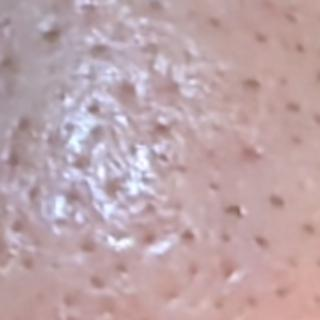Pores: (224, 202, 245, 222), (240, 145, 263, 161), (251, 234, 271, 251), (43, 25, 64, 40), (109, 26, 130, 41), (129, 141, 146, 158), (106, 181, 124, 197), (182, 226, 197, 245), (7, 150, 20, 171), (106, 231, 127, 244), (121, 80, 137, 97), (164, 290, 181, 306), (182, 45, 197, 63), (82, 66, 100, 81), (244, 294, 260, 310), (270, 194, 286, 210), (90, 128, 105, 145), (186, 264, 201, 281), (221, 266, 238, 281), (284, 255, 301, 270), (15, 116, 31, 131), (25, 185, 40, 201), (89, 44, 107, 57), (57, 90, 70, 108), (147, 1, 166, 13), (245, 75, 260, 90), (170, 78, 185, 93), (193, 103, 208, 118), (64, 189, 80, 203), (238, 114, 252, 130), (3, 54, 16, 71), (85, 102, 102, 115), (70, 158, 87, 171), (204, 146, 217, 163), (79, 243, 97, 255), (303, 220, 317, 235), (290, 132, 304, 147), (255, 32, 270, 46), (91, 275, 104, 291), (286, 99, 299, 115), (213, 66, 229, 79), (299, 178, 311, 195), (275, 284, 286, 302), (143, 232, 157, 246), (158, 123, 173, 136), (79, 1, 94, 14), (60, 296, 79, 306), (119, 264, 132, 278), (212, 121, 226, 134), (9, 220, 21, 235), (54, 216, 65, 232), (189, 296, 205, 307), (20, 256, 30, 273), (140, 173, 152, 187), (219, 231, 231, 245), (214, 297, 225, 312), (176, 165, 191, 176), (266, 101, 277, 116), (64, 120, 77, 132), (103, 307, 115, 320), (209, 180, 221, 193), (308, 292, 320, 305), (149, 61, 161, 74), (157, 150, 168, 164), (2, 16, 11, 33), (144, 204, 157, 215), (277, 75, 288, 88), (287, 12, 298, 25), (62, 313, 81, 320), (211, 16, 222, 28), (48, 259, 59, 271), (296, 42, 306, 55), (312, 111, 320, 126), (315, 67, 320, 85), (313, 256, 320, 268), (137, 316, 152, 320), (315, 47, 320, 59), (318, 12, 320, 27)
